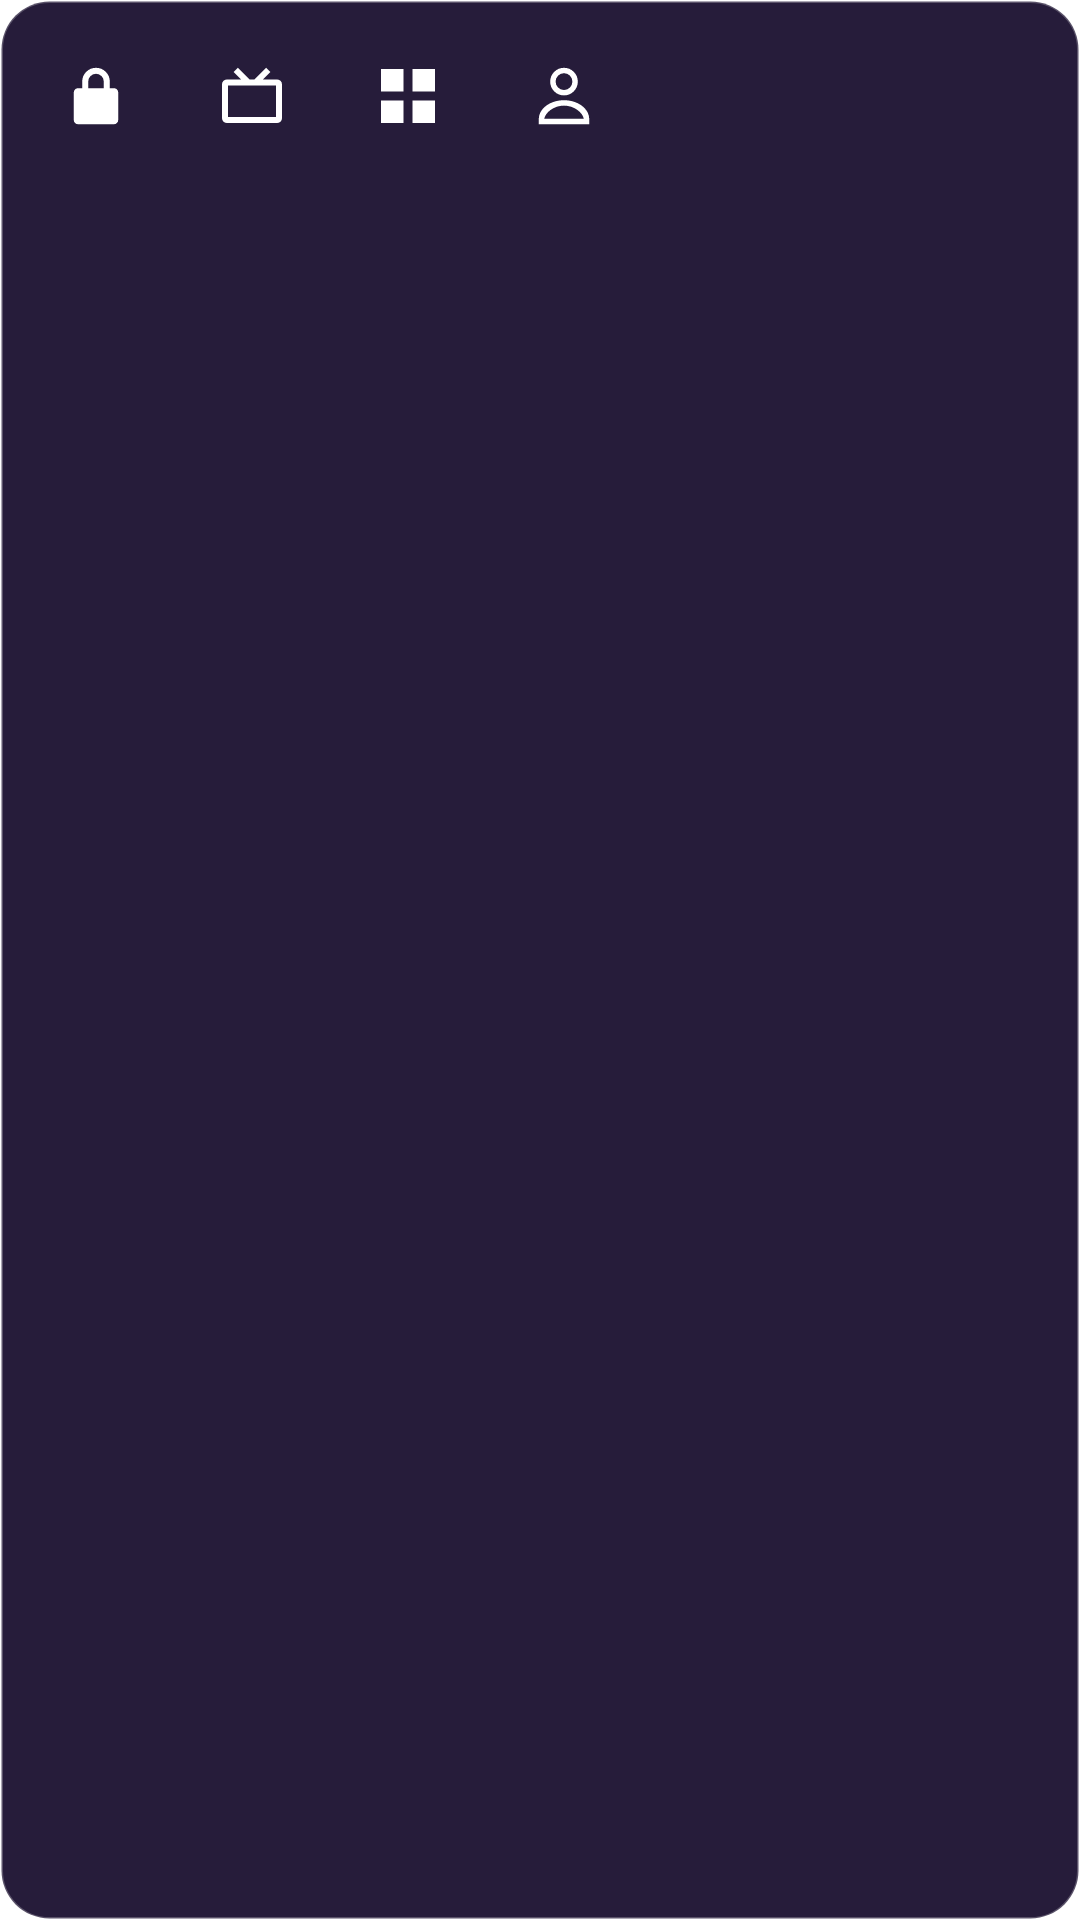

Where icons sit on this 1080 × 1920 app screen, as [left=x1, top=y1, right=x2, bottom=y2]:
Control parental: [left=73, top=67, right=119, bottom=125]
Cuenta: [left=538, top=67, right=590, bottom=125]
Guía: [left=222, top=68, right=282, bottom=123]
Multi: [left=381, top=69, right=435, bottom=123]
